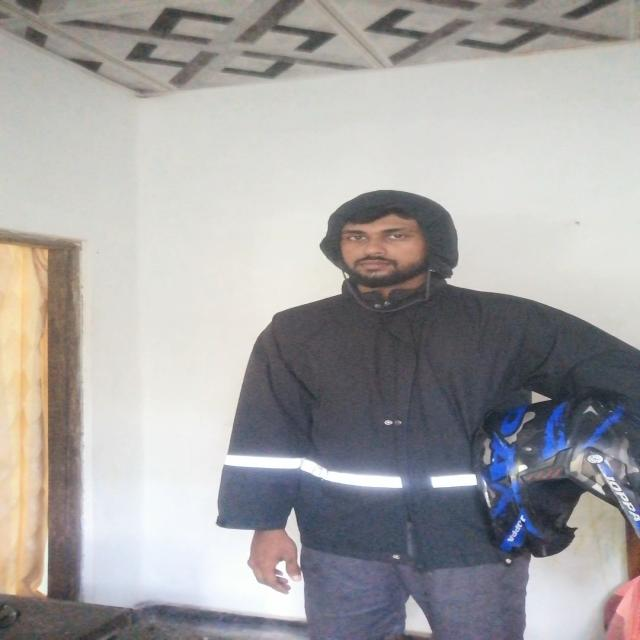Jacket_Wearer: (228, 284, 639, 558)
Person: (225, 189, 636, 640)
